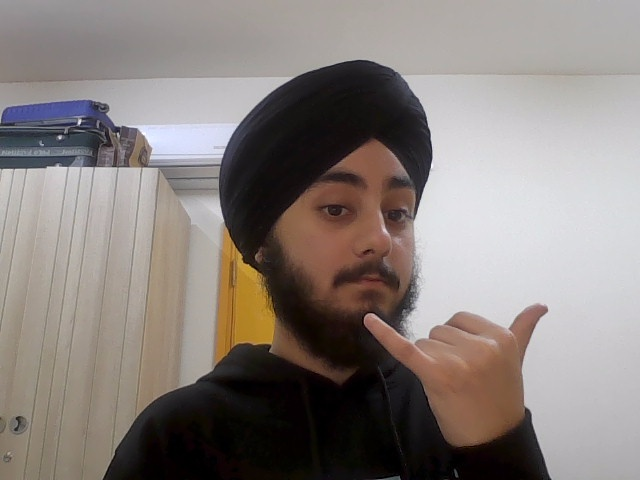Wrong: (357, 291, 554, 452)
